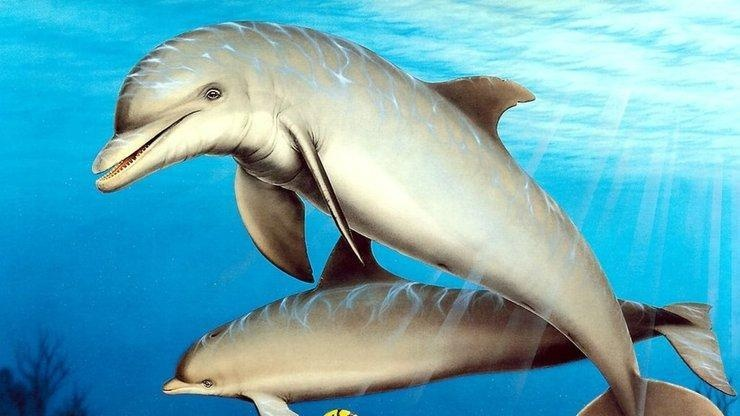fish: (87, 15, 733, 416), (144, 264, 733, 412)
